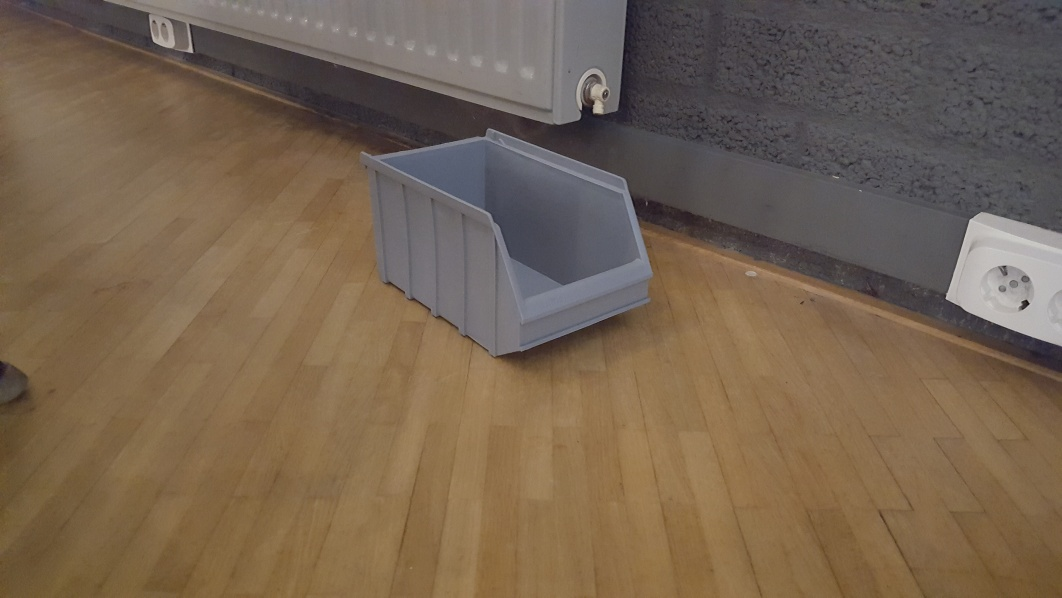tray: (354, 129, 659, 363)
